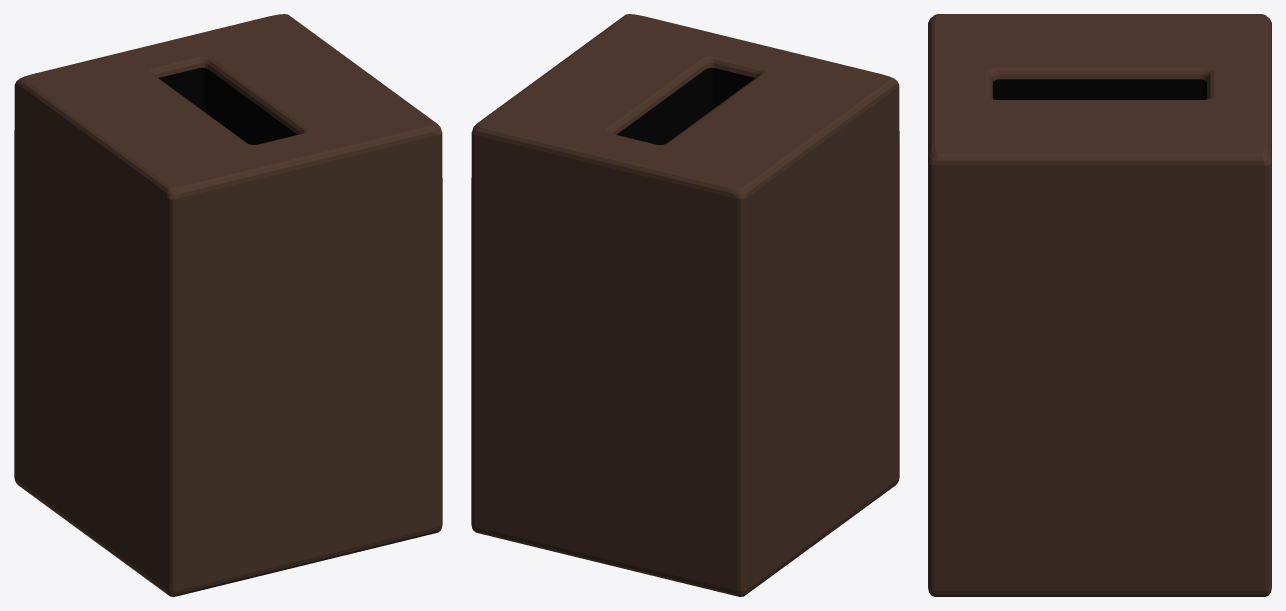
The model's file is Plunger Body.fbx.
3 views of the same model, side by side, from view 1: azimuth 30°, elevation 25°; view 2: azimuth 150°, elevation 25°; view 3: azimuth 270°, elevation 25° (orthographic). The views are drawn at different scales.
Parts seen in each view (by area): view 1: Plunger Body; view 2: Plunger Body; view 3: Plunger Body.
Part boxes in pixels (<box>): Plunger Body: <box>14,14,442,596</box>; Plunger Body: <box>471,14,899,596</box>; Plunger Body: <box>928,14,1271,596</box>.
Size of the model in its own units: 217 by 308 by 217.
